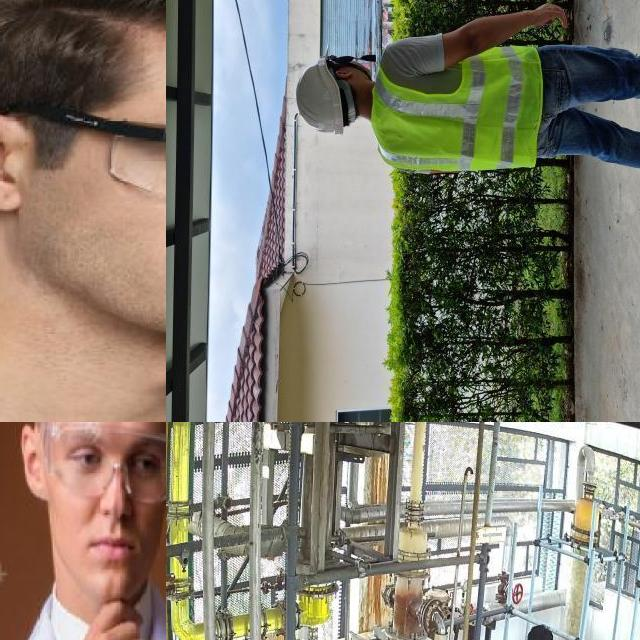No_Ear-Protection: (18, 422, 53, 505), (0, 105, 24, 218)
face_nomask: (58, 426, 166, 578)
glasses: (0, 91, 166, 213), (32, 422, 166, 505)
hand_noglove: (74, 599, 163, 640)
head_helmet: (292, 52, 345, 139)
head_nohelmet: (0, 0, 166, 94), (523, 622, 558, 640)
person: (279, 0, 640, 191), (0, 422, 166, 640)
vest: (373, 45, 547, 177)
